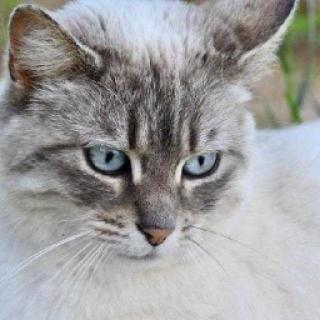cat: (5, 4, 268, 276)
nose: (131, 196, 183, 251)
